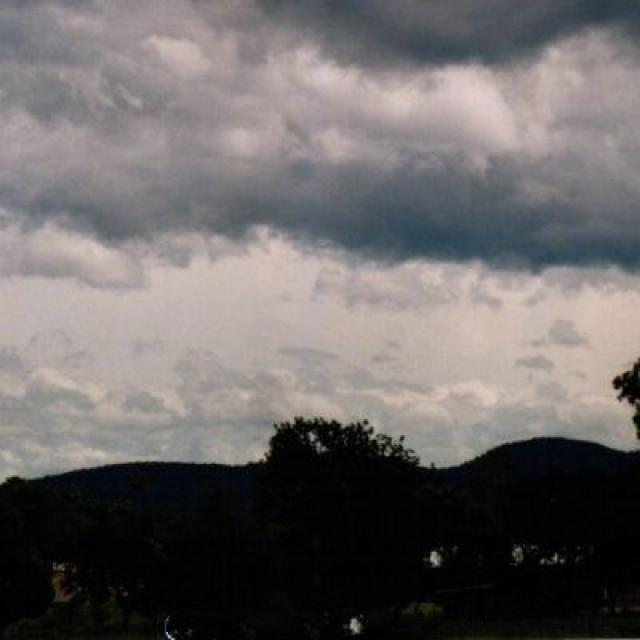Cs: (1, 22, 640, 336)
